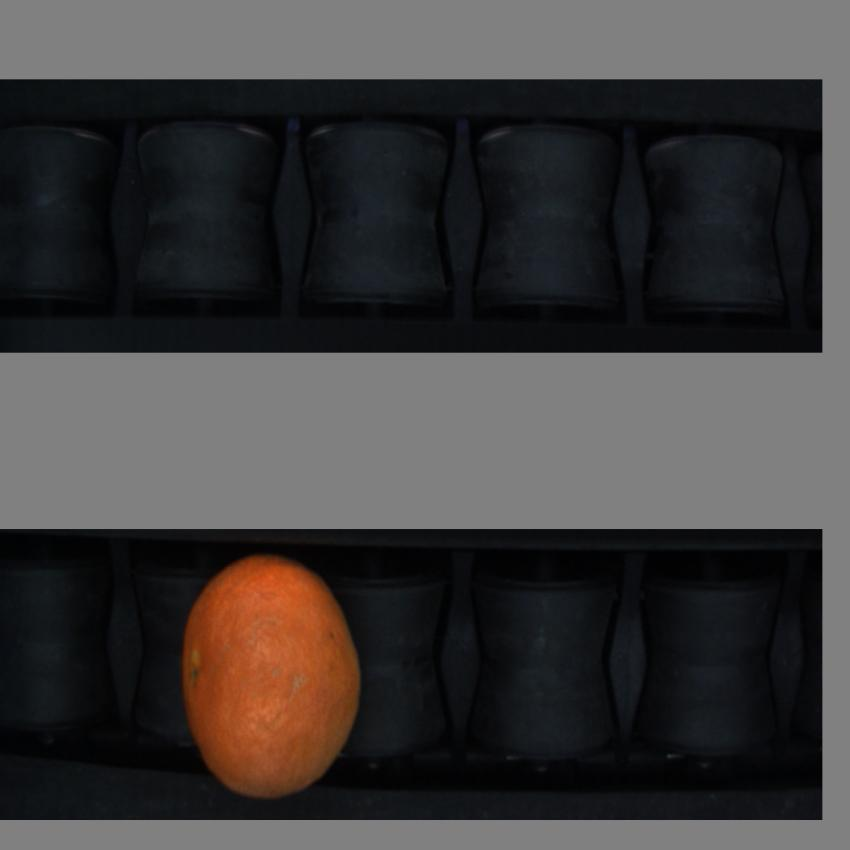Buen estado: (179, 553, 362, 800)
